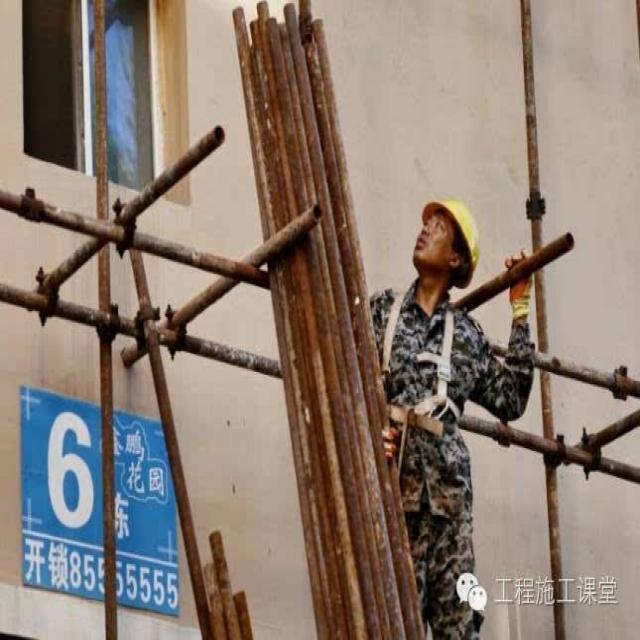Arnes_seguridad: (378, 284, 466, 441)
